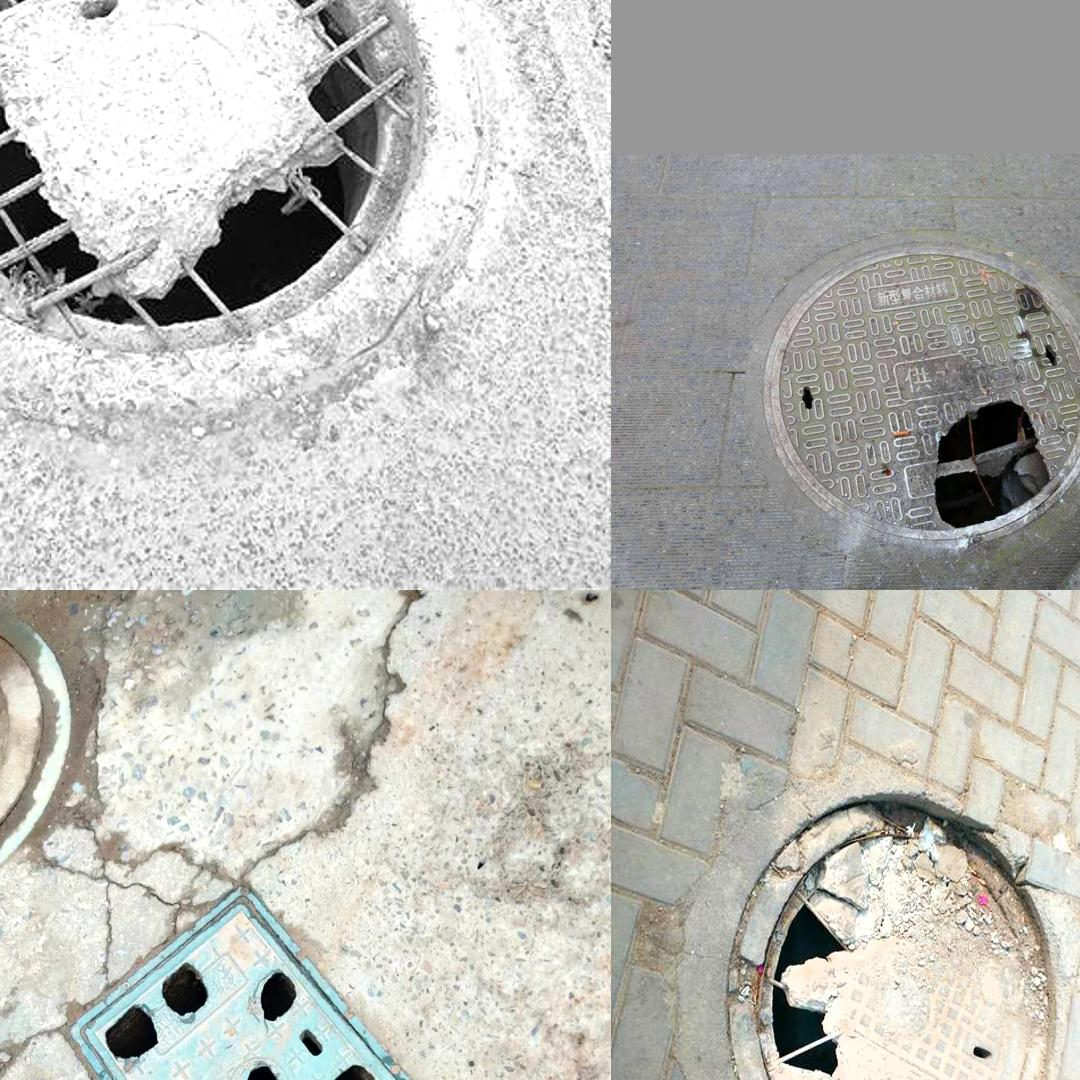broke: (0, 0, 462, 403), (713, 761, 1058, 1080), (762, 239, 1080, 541), (66, 885, 468, 1080)
